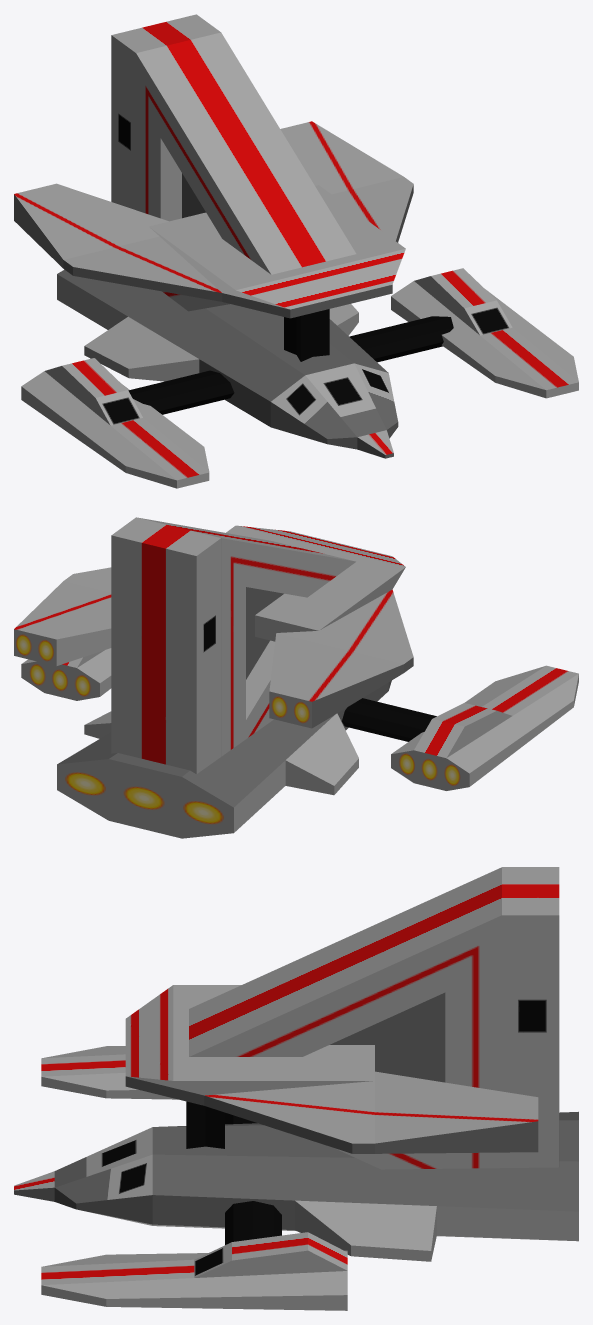
Rendered from spaceShip.fbx.
3 renders of one model, top to bottom at view 1: azimuth 30°, elevation 25°; view 2: azimuth 150°, elevation 25°; view 3: azimuth 270°, elevation 25°, orthographic. The views are drawn at different scales.
Parts seen in each view (by area): view 1: Cylinder; view 2: Cylinder; view 3: Cylinder.
Boxes of the visible parts, bbox=[...] form: Cylinder: bbox=[14, 14, 578, 488]; Cylinder: bbox=[14, 517, 578, 838]; Cylinder: bbox=[14, 867, 578, 1310].
Bounding box in the file's own units: 145 × 85.57 × 136.
